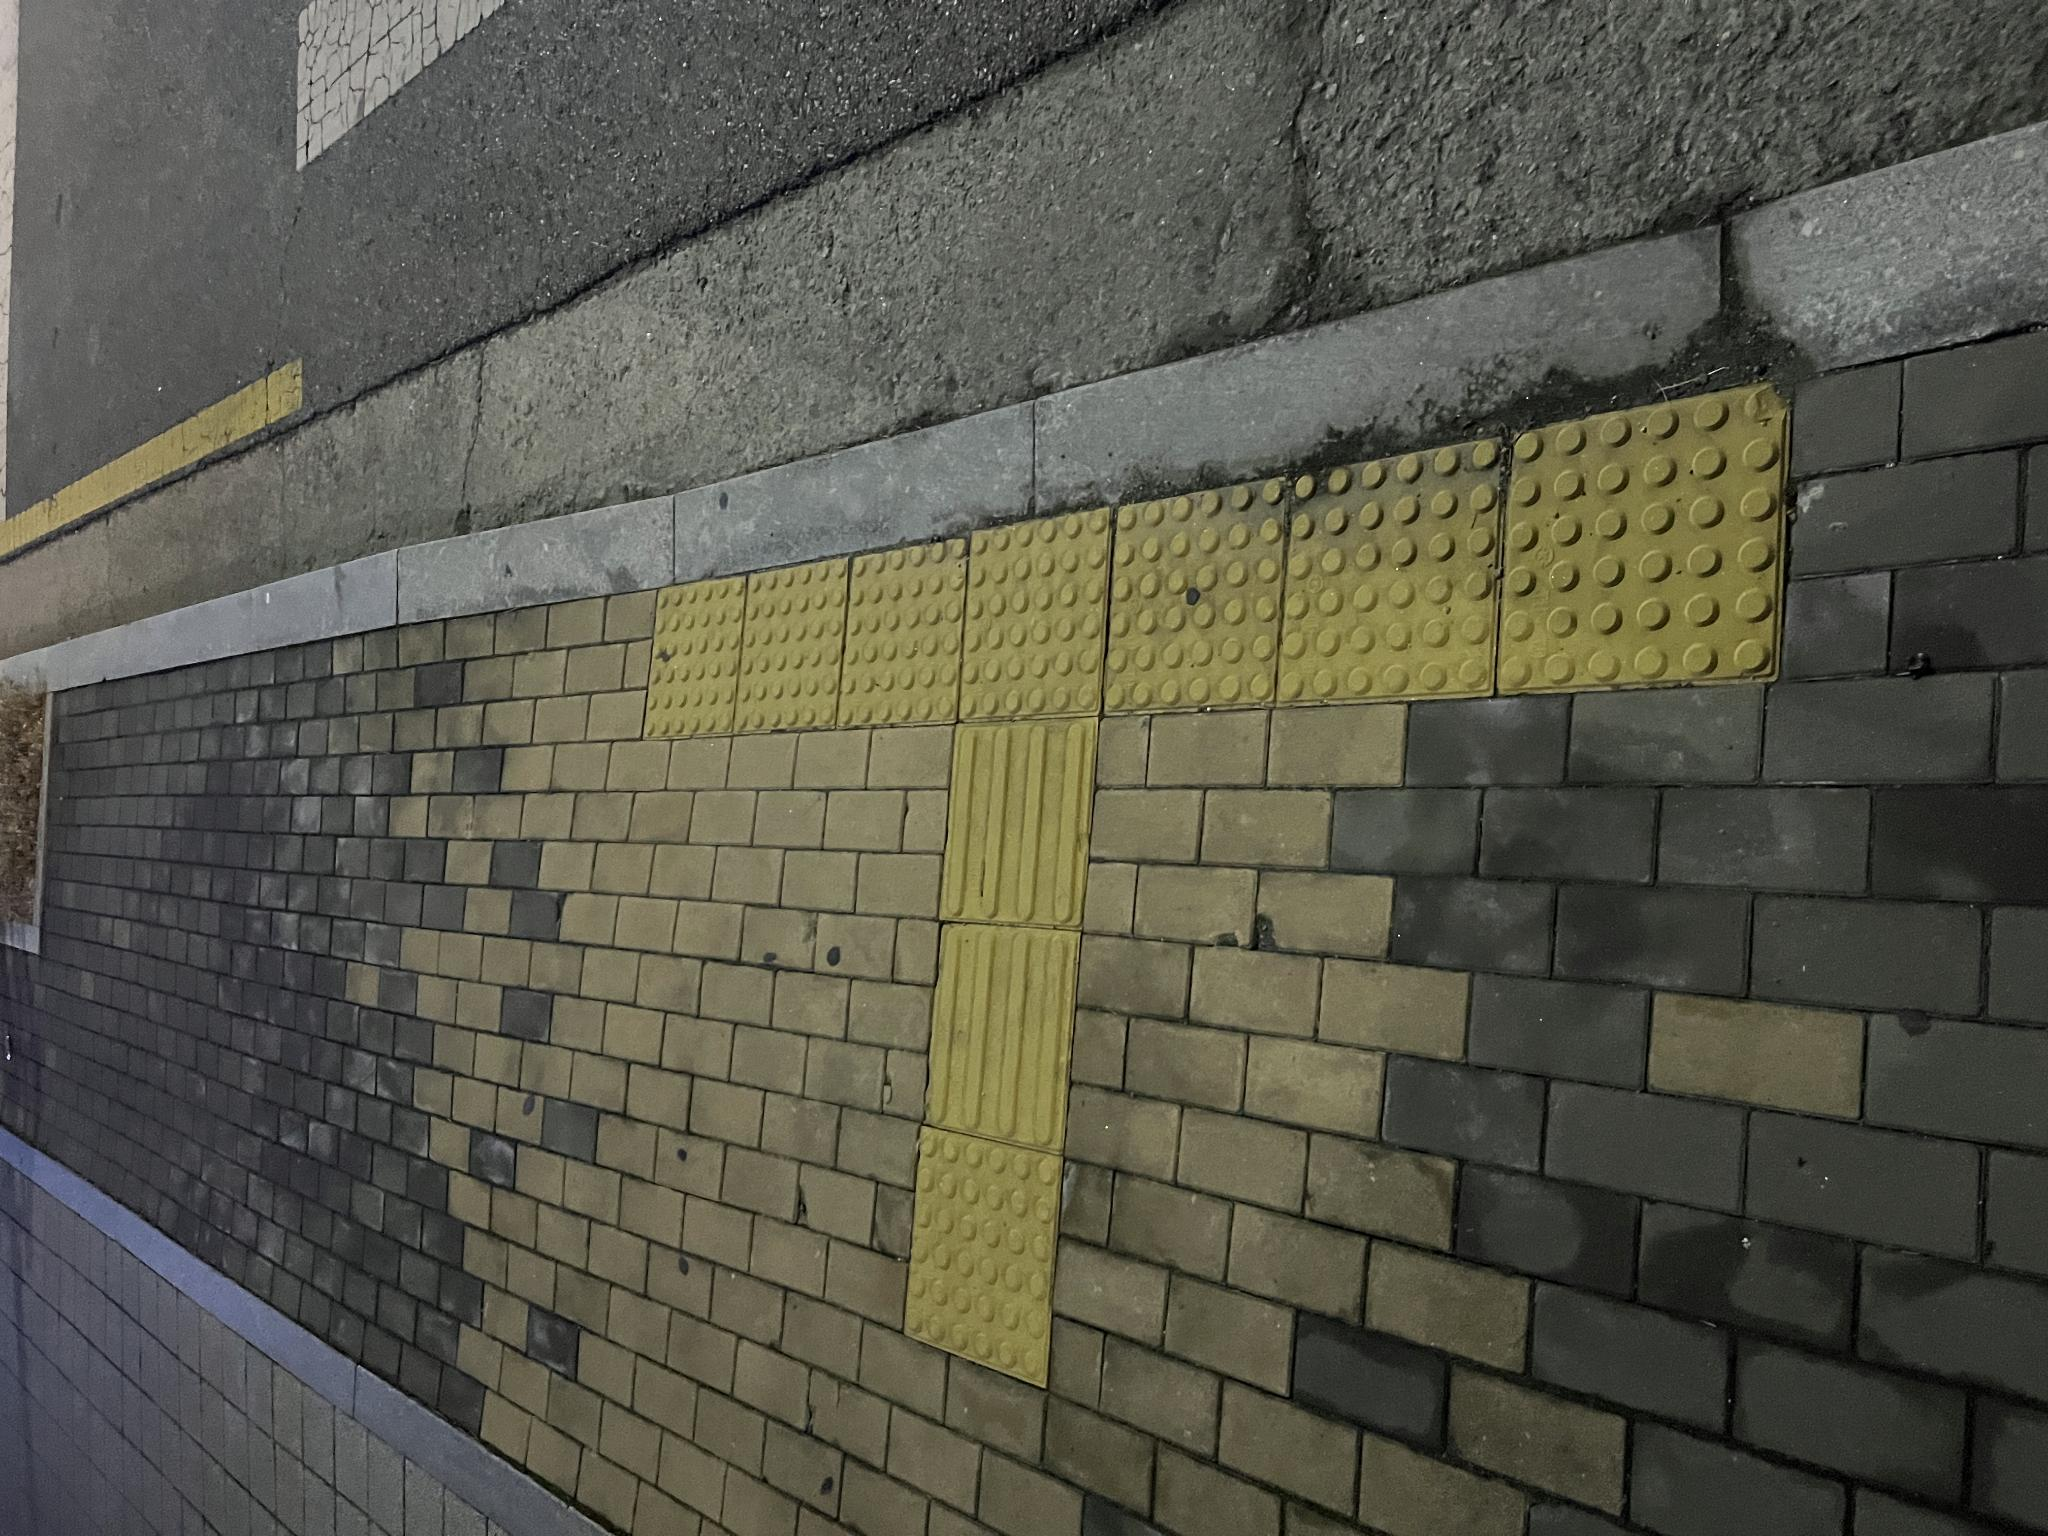Stop block normal: (834, 1278, 1101, 1502), (824, 1105, 1056, 1288), (148, 905, 408, 1060), (814, 960, 1029, 1110), (810, 837, 1003, 968), (805, 736, 974, 845)
Straight block normal: (385, 926, 613, 1076), (610, 941, 818, 1094)
